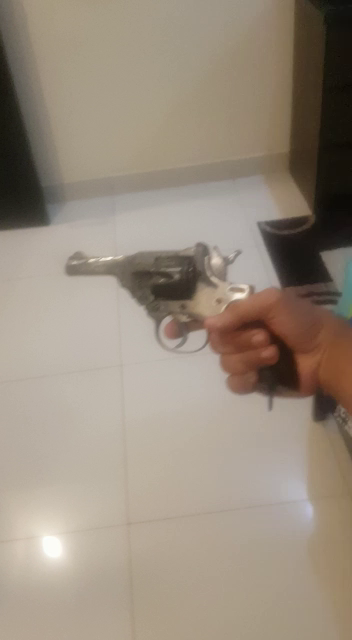handgun: (61, 233, 305, 412)
